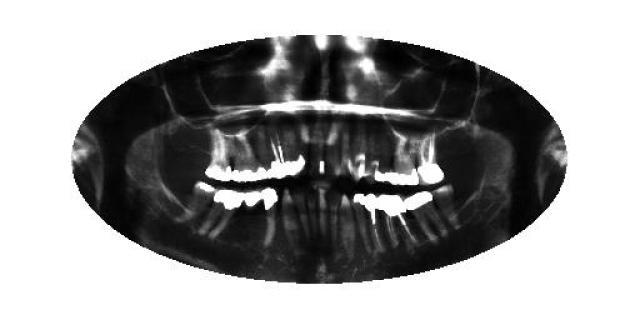Fillings: (199, 186, 245, 240), (405, 190, 445, 245), (176, 181, 218, 224), (205, 128, 231, 182), (390, 138, 418, 188), (352, 192, 372, 256), (281, 130, 305, 179), (235, 130, 257, 182), (258, 130, 278, 182), (365, 190, 381, 254), (244, 188, 260, 238), (262, 189, 276, 241)
Implant: (378, 192, 418, 248), (418, 132, 443, 188)
